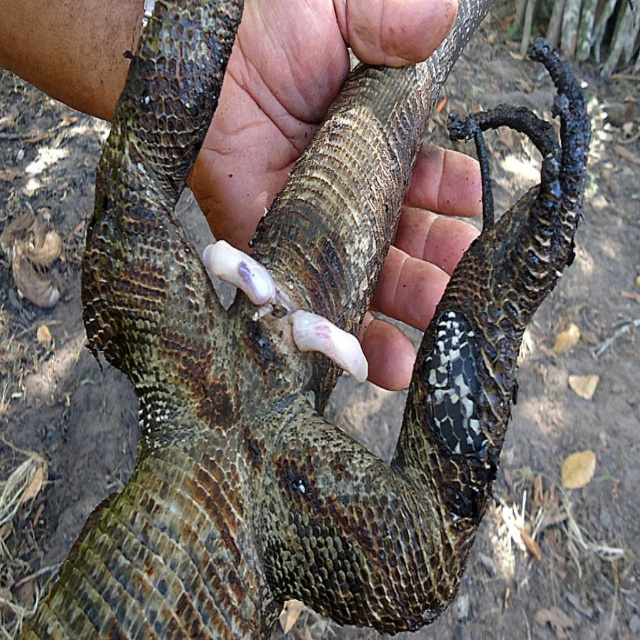Lizard: (81, 0, 587, 638)
